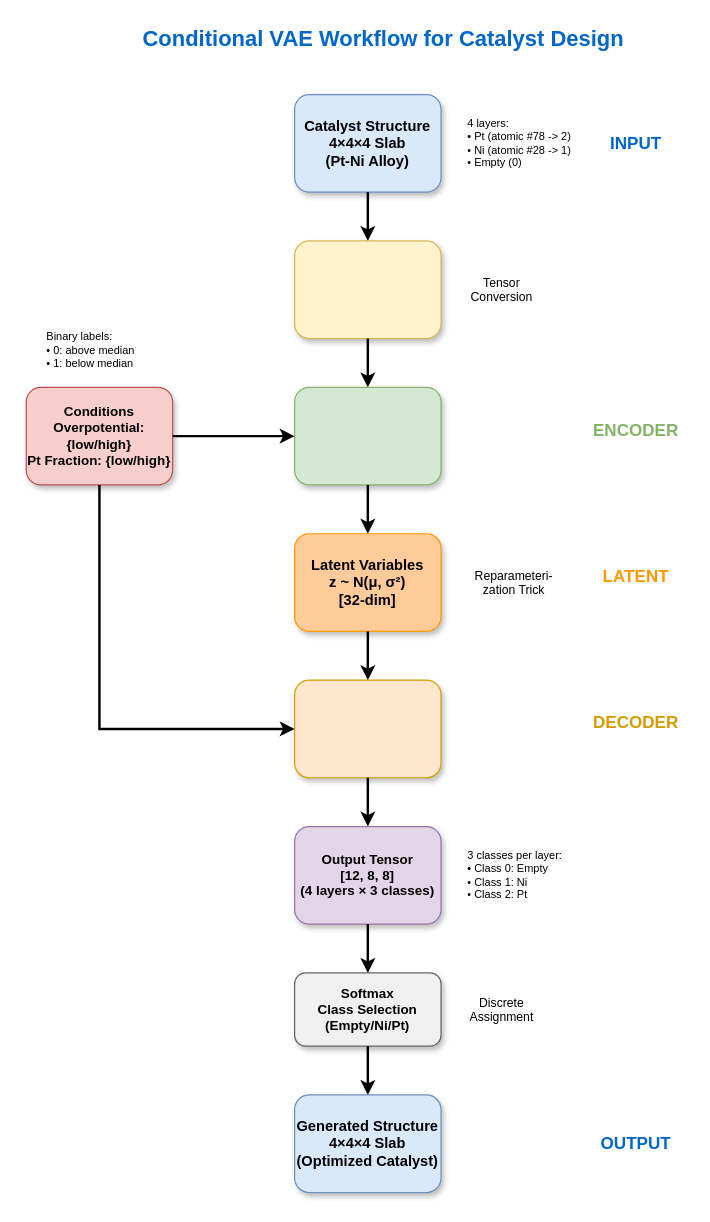
This 710x1222 diagram has some shape labels left out. Each missing label, with the centre of its shape:
Decoder ConvTranspose2D + Condition Embedding: (368,730)
Encoder Conv2D Layers + Condition Embedding: (368,437)
Tensor Representation [4, 8, 8] (4 layers, 8×8 grid): (368,291)
